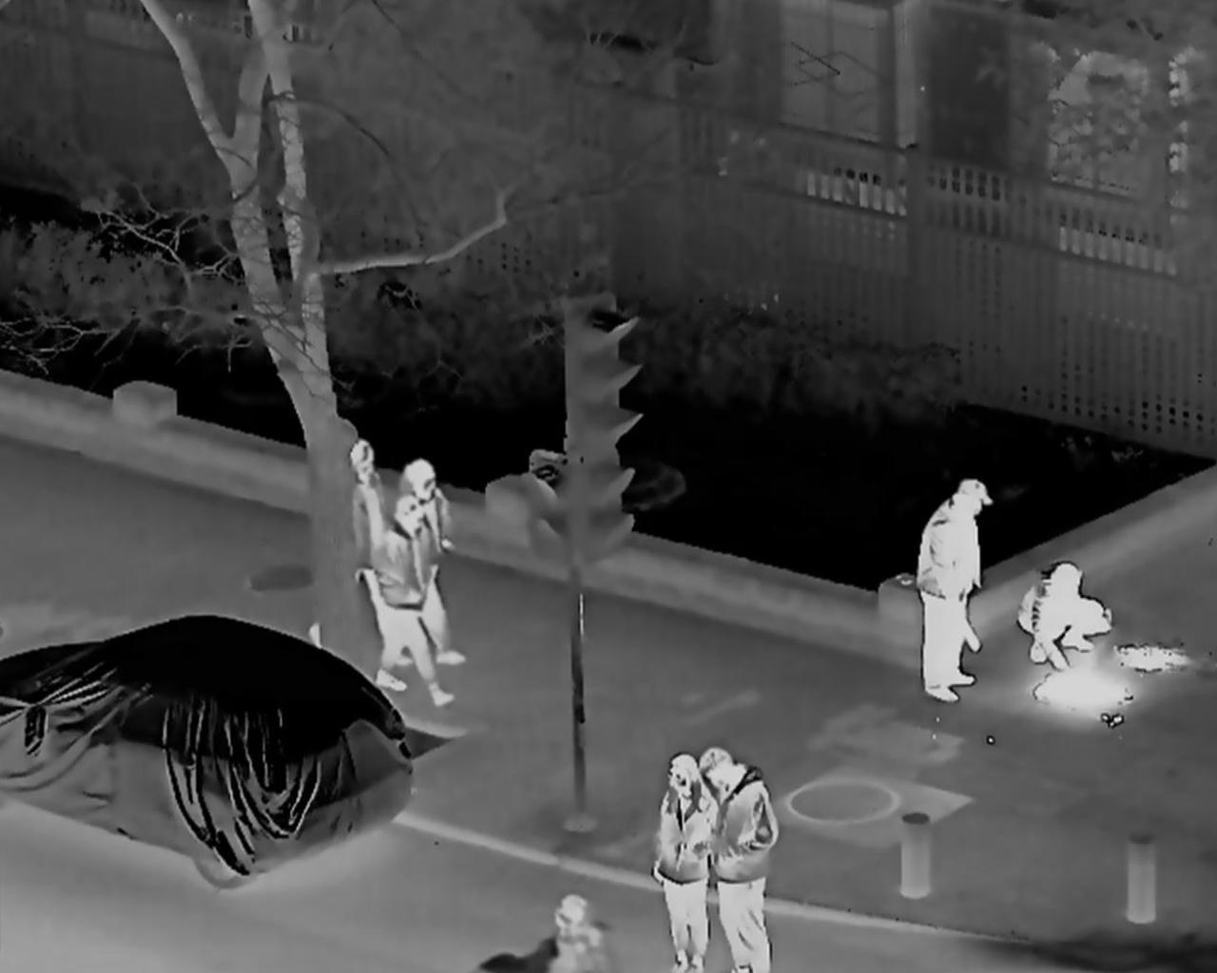person: (388, 460, 474, 671), (914, 478, 990, 707), (316, 439, 402, 641), (708, 741, 782, 973), (375, 504, 453, 707), (651, 755, 719, 971), (1013, 563, 1111, 667), (541, 891, 619, 973)
